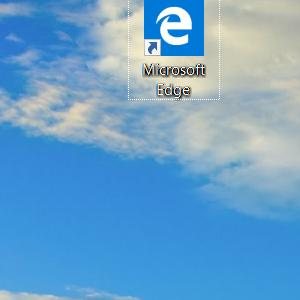edge: (144, 1, 204, 56)
